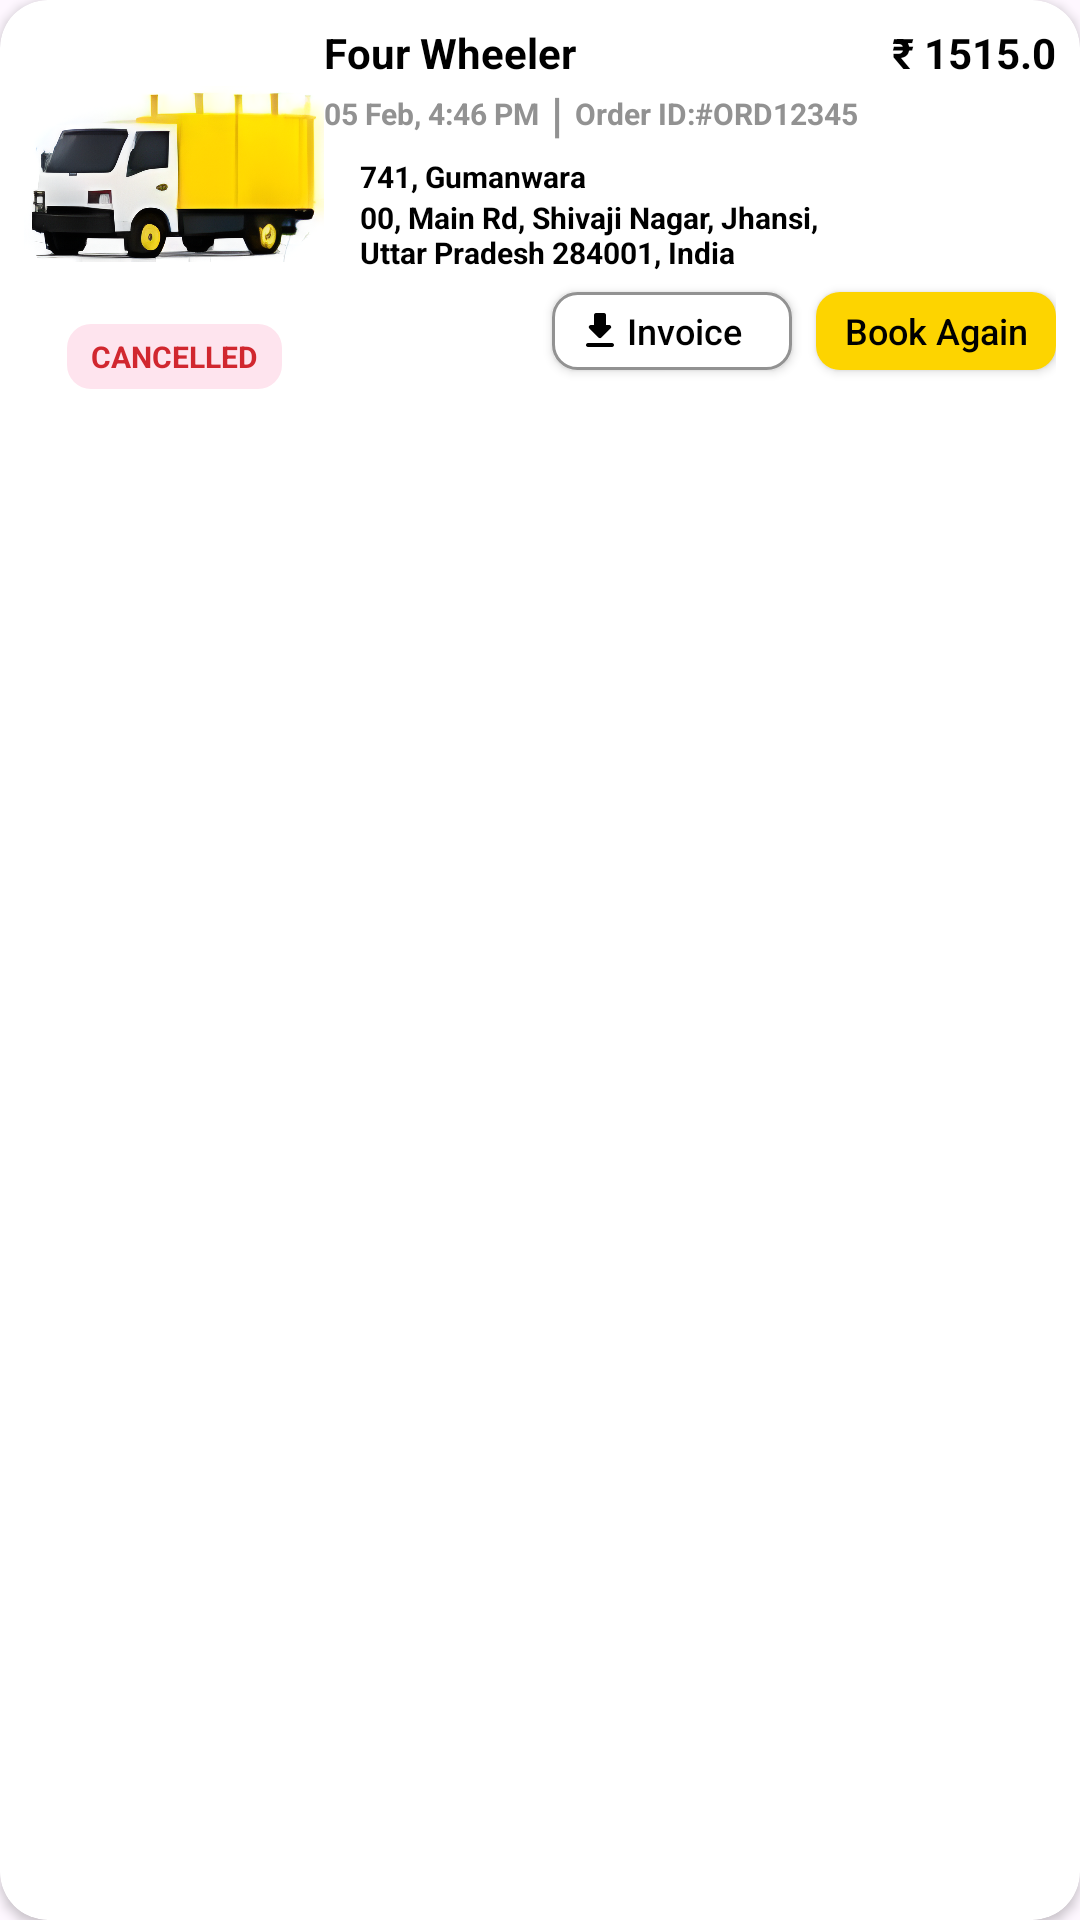

Icons on this 1080px×1920px Android screen, each with its box as (x1=x1, y1=y1, x2=x2, y2=y2):
truck: (x1=32, y1=93, x2=324, y2=262)
